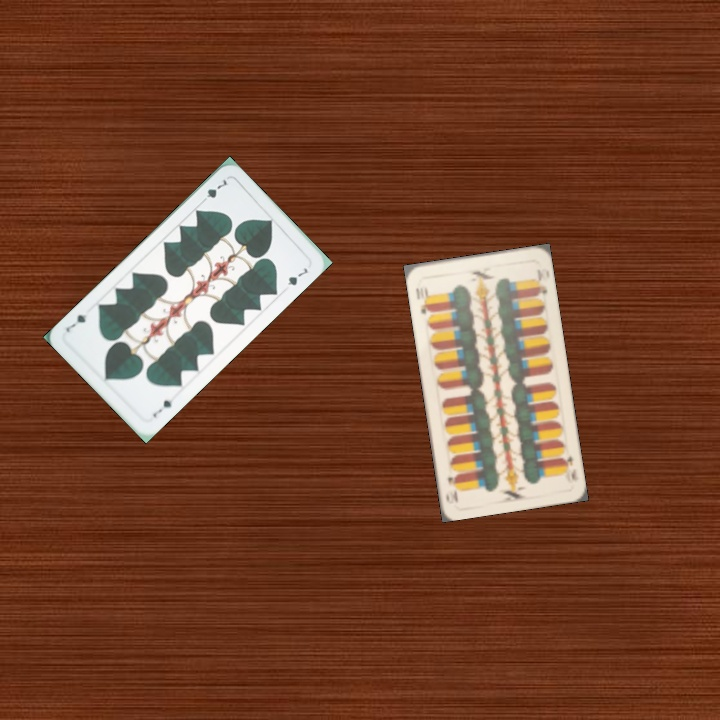E10: (558, 452, 581, 485), (412, 283, 433, 317)
G7: (197, 175, 230, 206), (149, 393, 178, 420)
